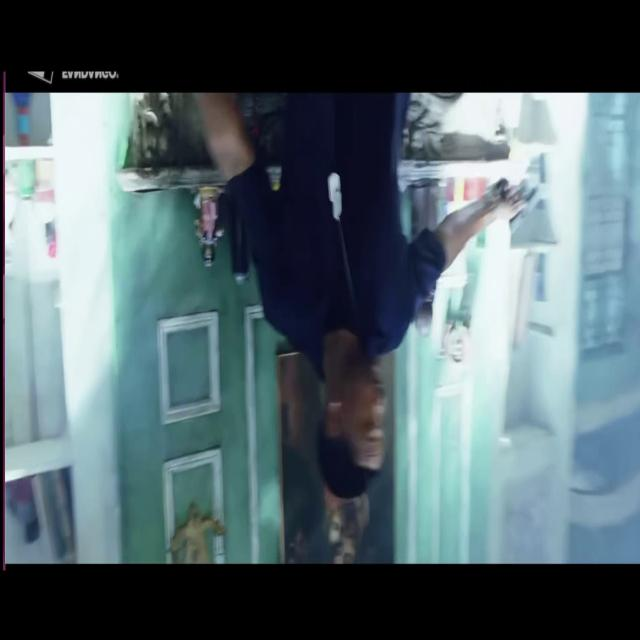weapons: (488, 160, 544, 246)
